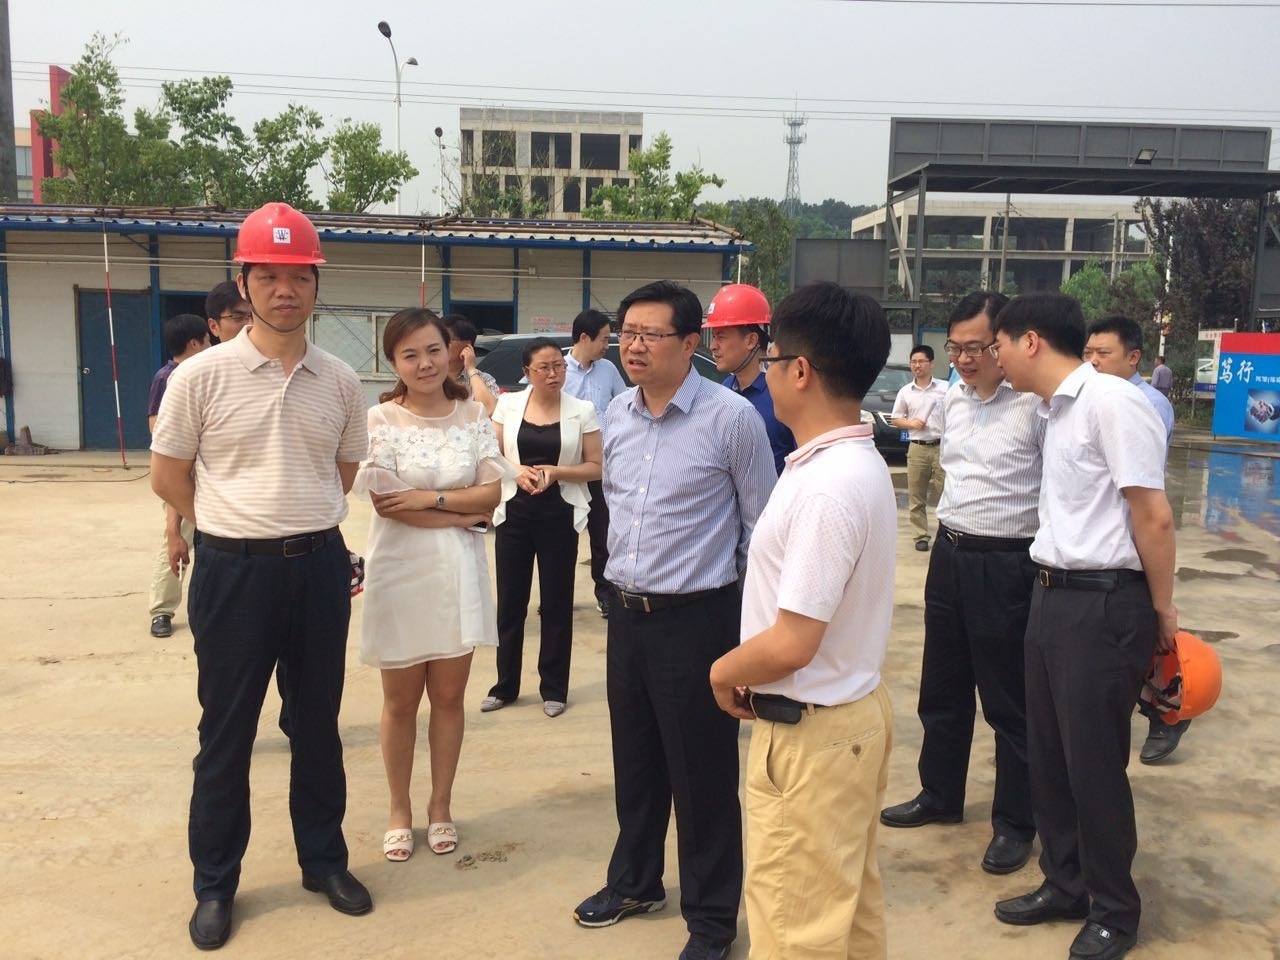none: (760, 282, 893, 429), (993, 291, 1086, 408), (611, 276, 706, 387), (943, 288, 1004, 390), (384, 304, 447, 398), (1083, 313, 1145, 385), (200, 280, 253, 342), (516, 334, 568, 395), (161, 311, 213, 359), (569, 309, 613, 359), (437, 312, 477, 365), (903, 344, 936, 382), (1153, 354, 1165, 368)
red: (236, 201, 323, 333), (700, 278, 775, 373)
